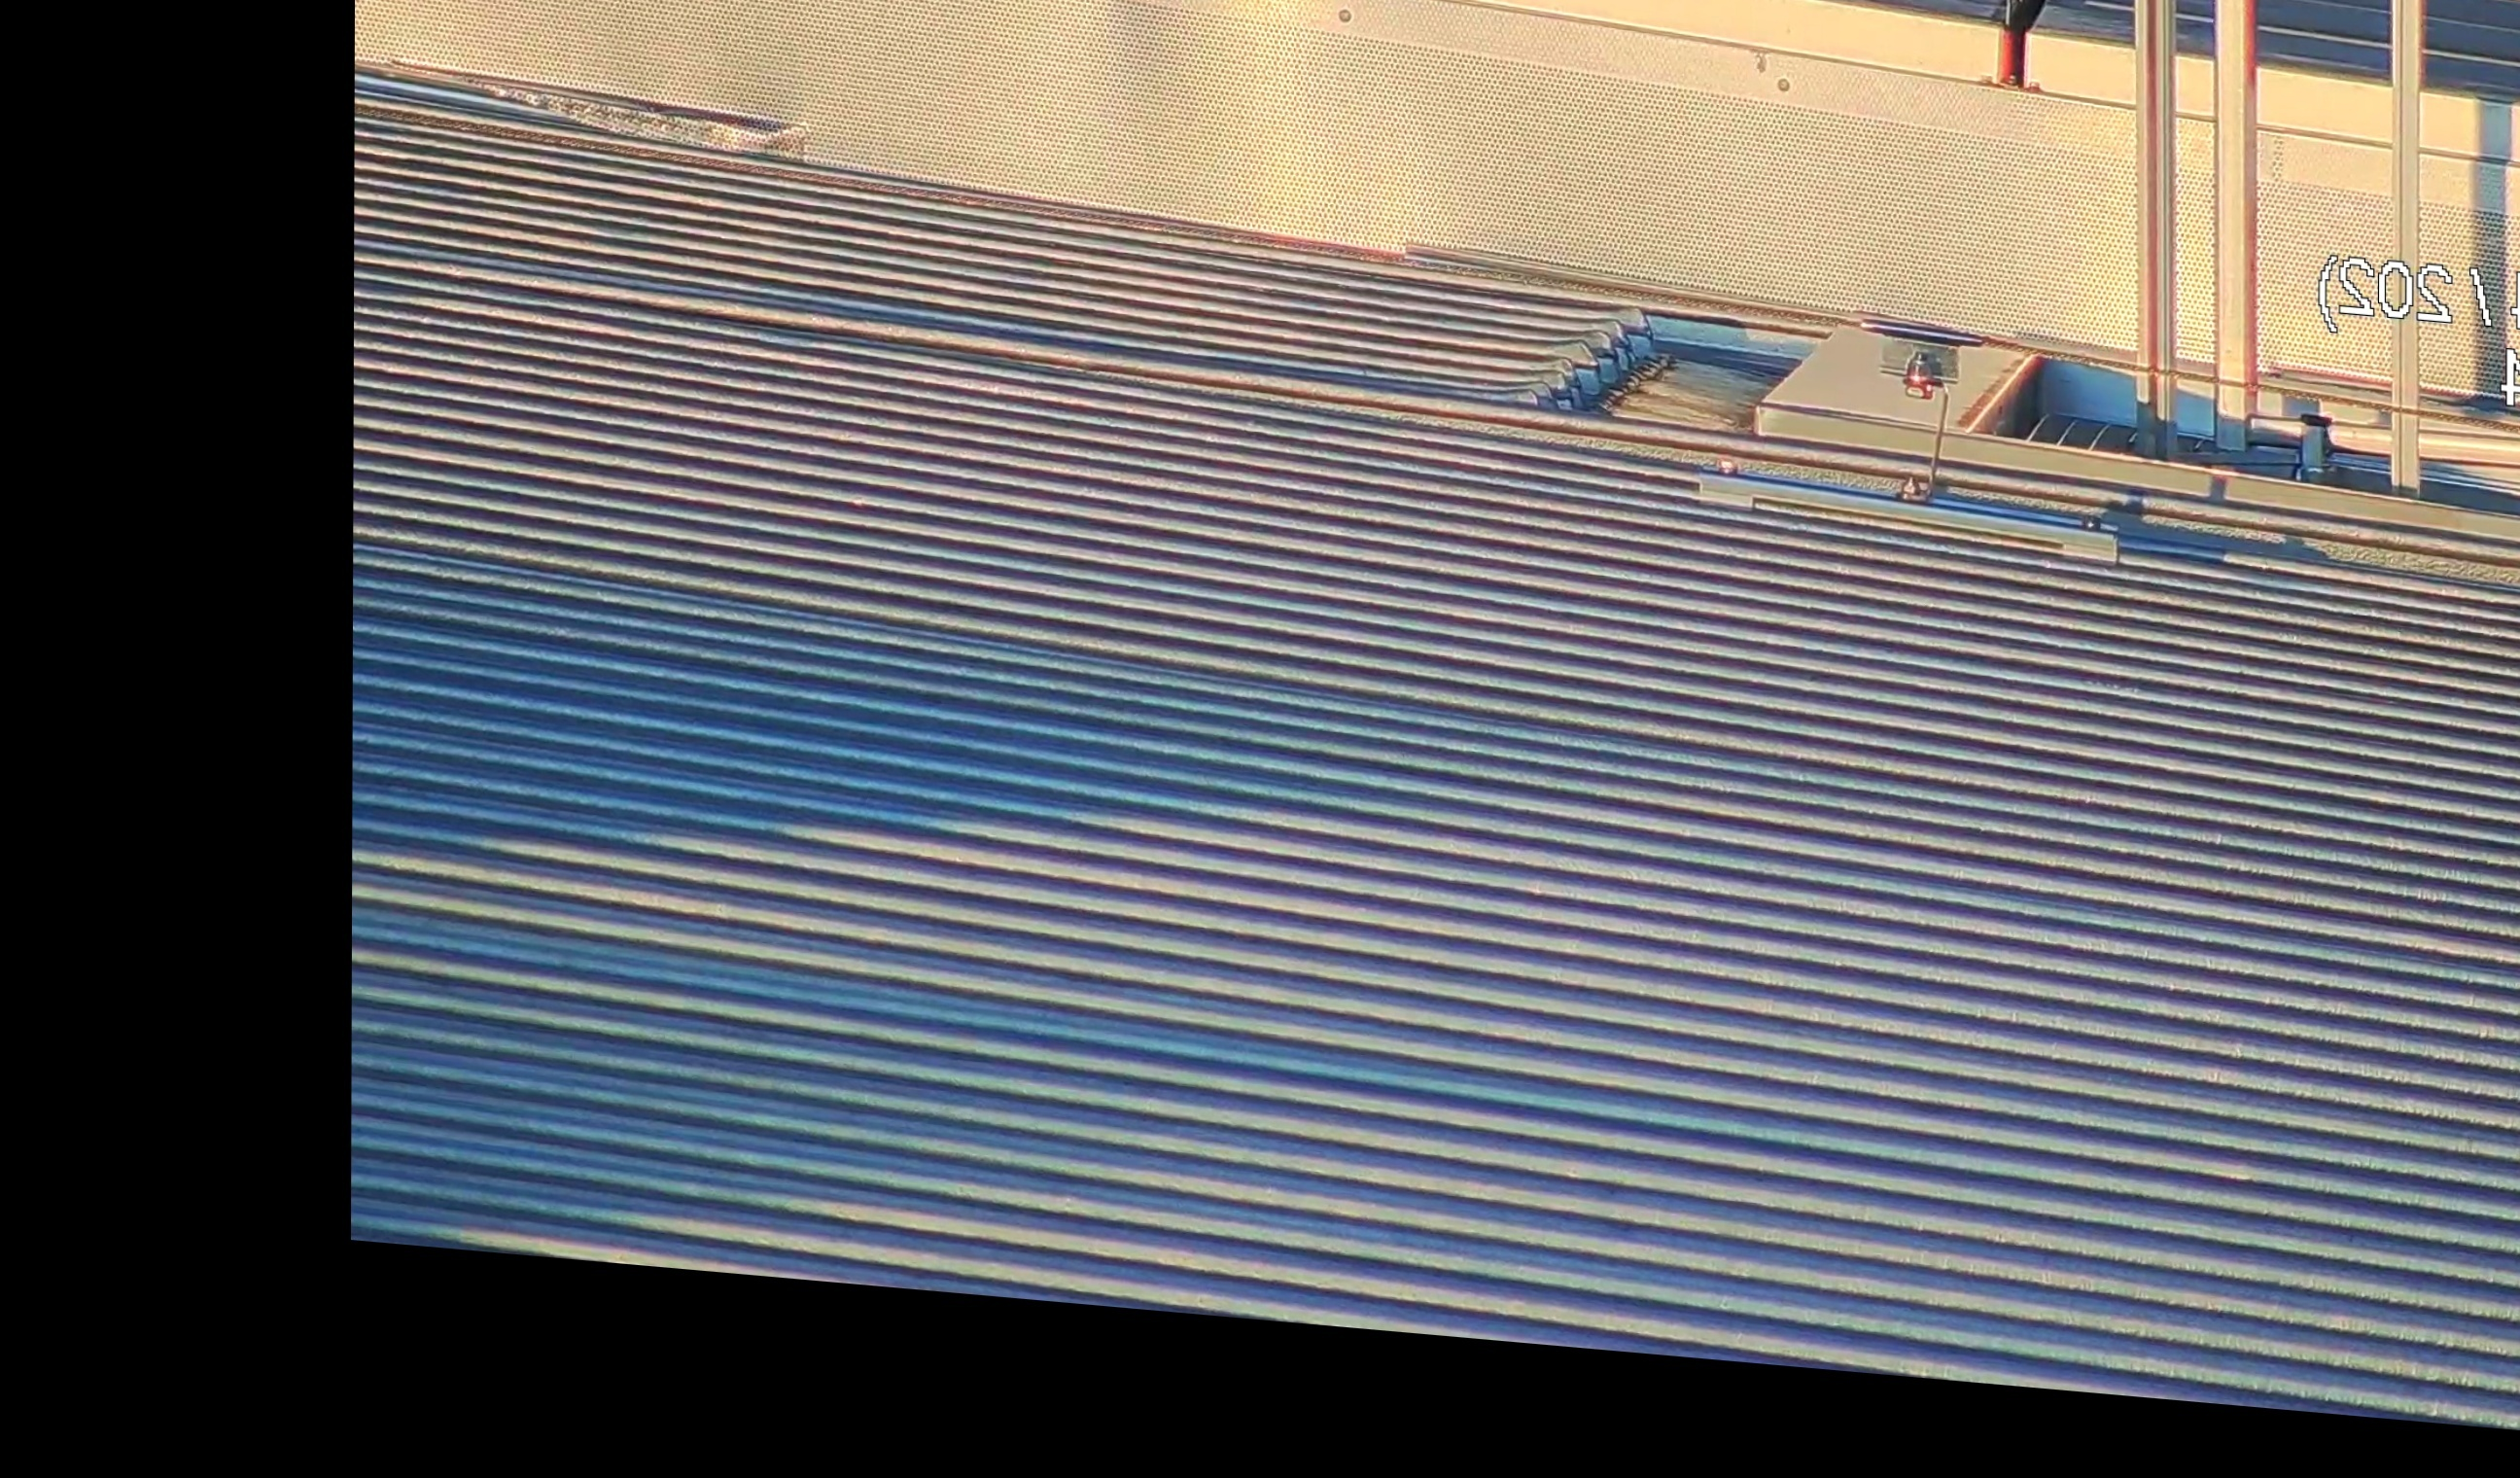Other: (1975, 0, 2091, 97)
